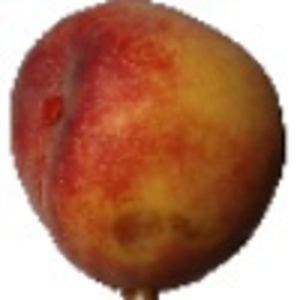pêssego: (8, 1, 288, 300)
